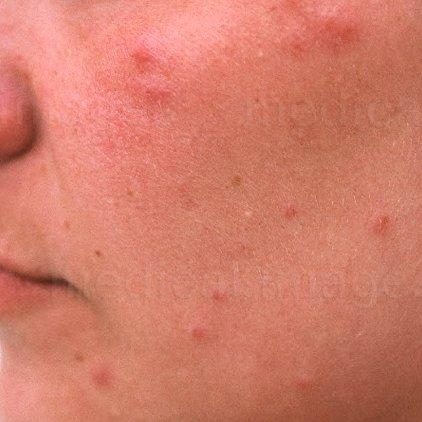Mosquito: (320, 13, 357, 50), (123, 34, 156, 74), (363, 208, 398, 242), (138, 77, 175, 103), (83, 358, 112, 386), (181, 324, 209, 343), (277, 198, 297, 221)
